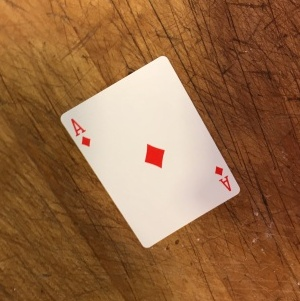card: (59, 53, 241, 248)
